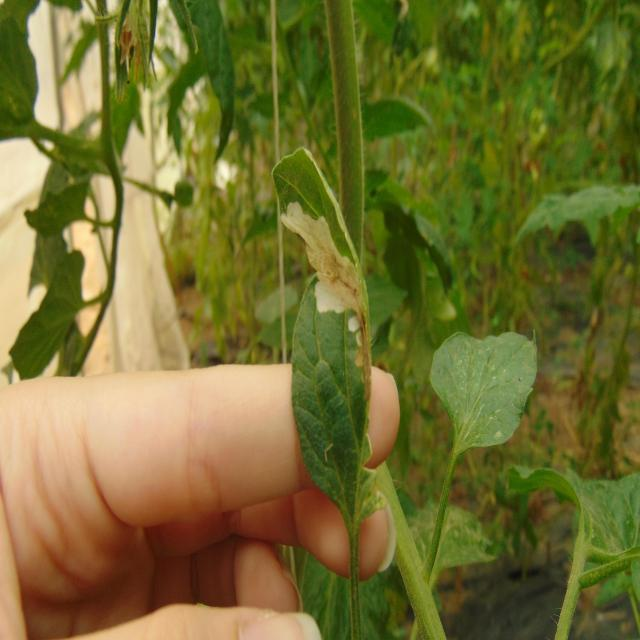Tuta absoluta: (277, 193, 361, 320)
